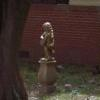Statue: (30, 13, 67, 82)
